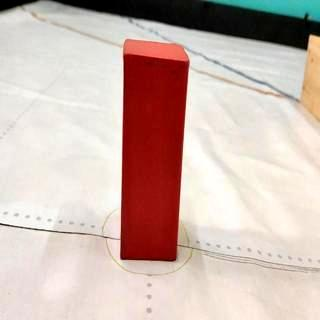redbox: (121, 37, 190, 262)
